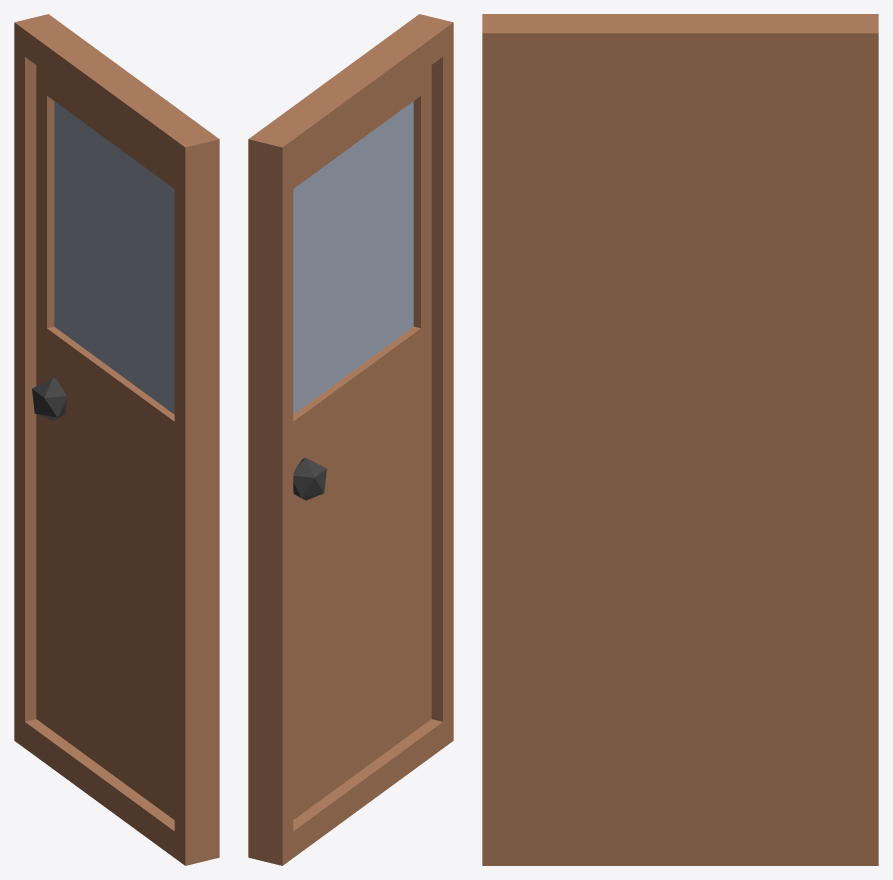
The model's file is Door.fbx.
3 renders of one model, left to right at view 1: azimuth 30°, elevation 25°; view 2: azimuth 150°, elevation 25°; view 3: azimuth 270°, elevation 25°, orthographic. The views are drawn at different scales.
Parts seen in each view (by area): view 1: Door; view 2: Door; view 3: Door.
Part boxes in pixels (x1,y1,x2,y2): Door: [14, 14, 219, 865]; Door: [248, 14, 453, 865]; Door: [482, 14, 878, 865].
Bounding box in the file's own units: 30.3 × 463 × 200.
